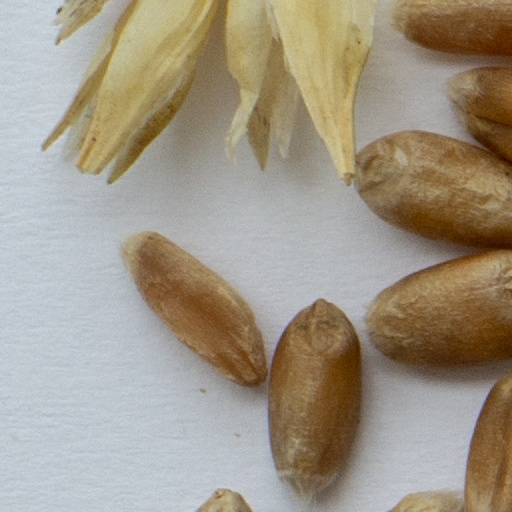Peel-poly: (36, 0, 377, 192)
